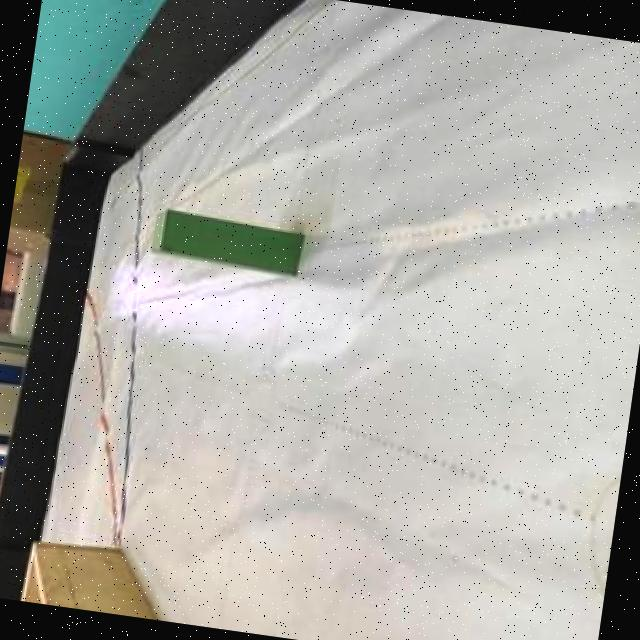greenbox: (147, 210, 306, 272)
